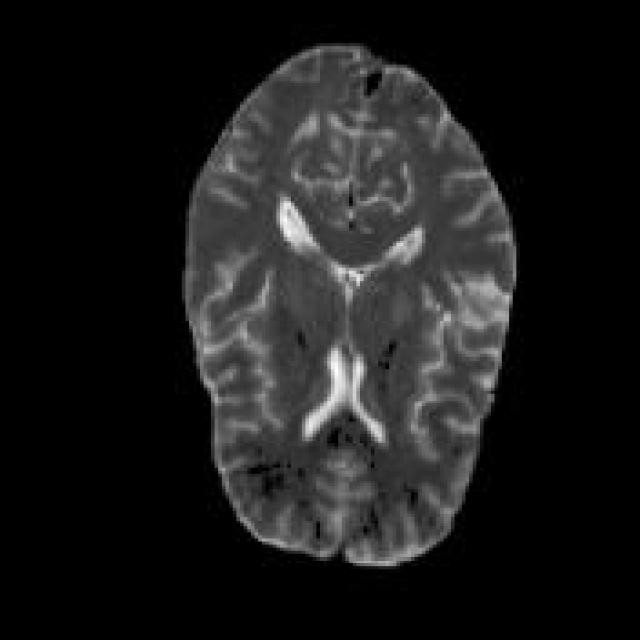parkinson: (178, 40, 520, 566)
